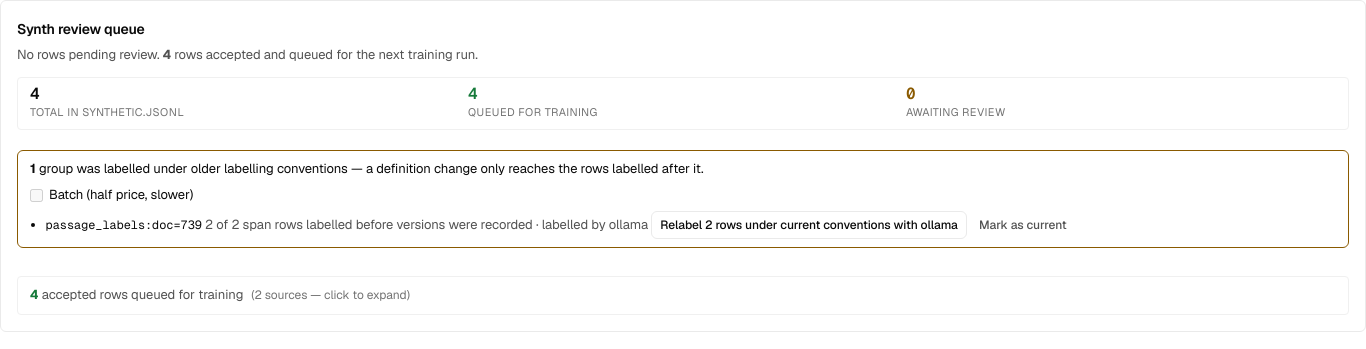
Scenario: SynthReviewQueue — groups labelled under older conventions › lists only stale groups and relabels one with its labeller under the current conventions
This screenshot has width=1366, height=349.
Expected: the element with test id "synth-review-queue-stale" is shown, left=17, top=150, right=1349, bottom=248
Expected: the list item with test id "synth-review-queue-stale-passage_labels:doc=739" shows "2 of 2 span rows labelled before versions were recorded · labelled by ollama", left=46, top=212, right=1076, bottom=240
What coordinates should you click on to do the following:
click the button with test id "synth-review-queue-relabel-passage_labels:doc=739"
I would click on:
 (809, 226)
Its box is left=651, top=212, right=967, bottom=240.
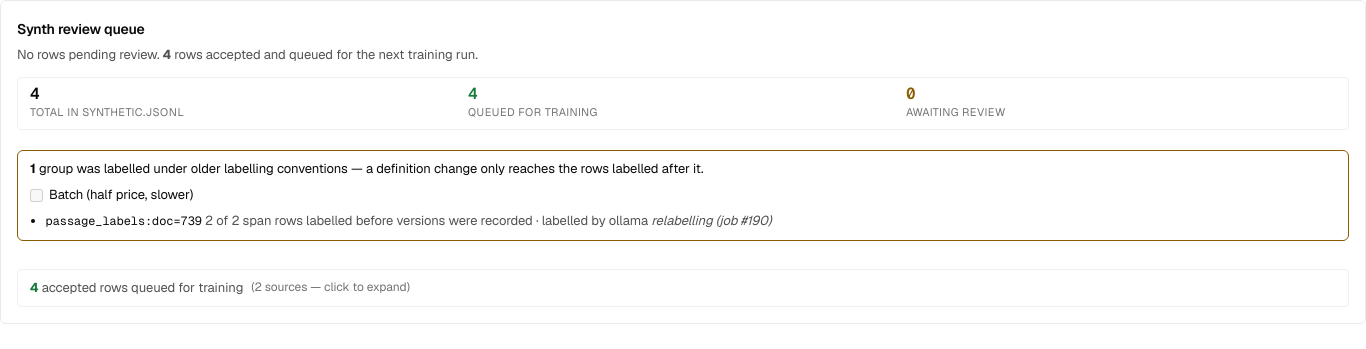
Expected: the text "relabelling (job #190)" is shown, left=651, top=212, right=772, bottom=230
